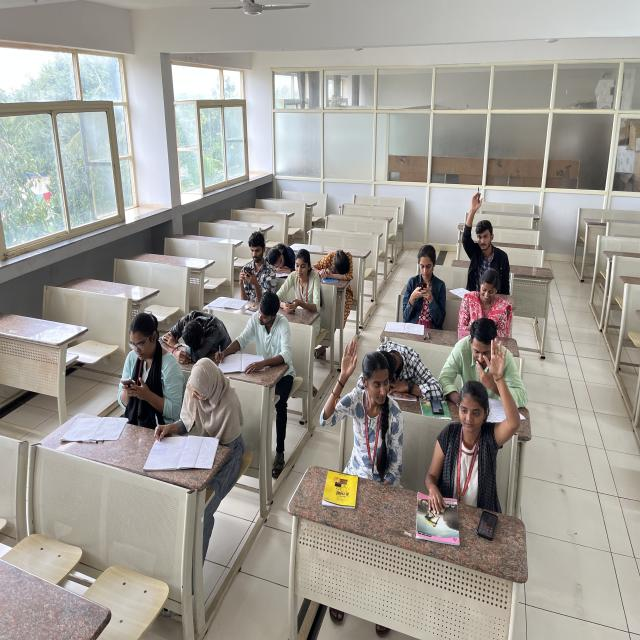Hand Rising: (446, 333, 518, 500), (322, 335, 396, 474), (456, 181, 512, 273)
Sleeping: (378, 332, 440, 401), (172, 298, 220, 362), (262, 231, 298, 277), (315, 244, 356, 284)
Using Phone: (117, 314, 181, 414), (229, 227, 272, 305), (277, 248, 322, 322), (402, 243, 444, 318)
Writing: (149, 368, 242, 470), (212, 294, 288, 372)
